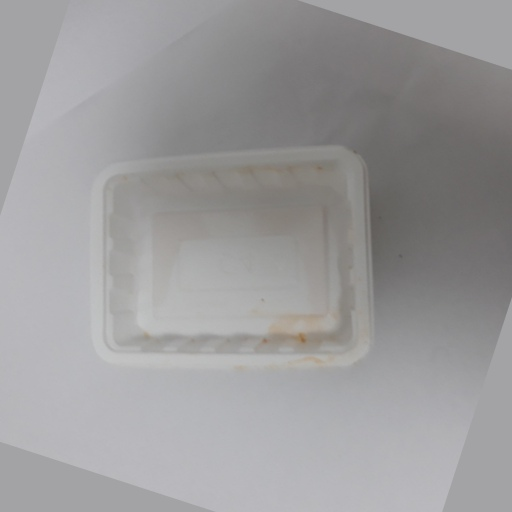Plastic_4: (88, 146, 378, 370)
